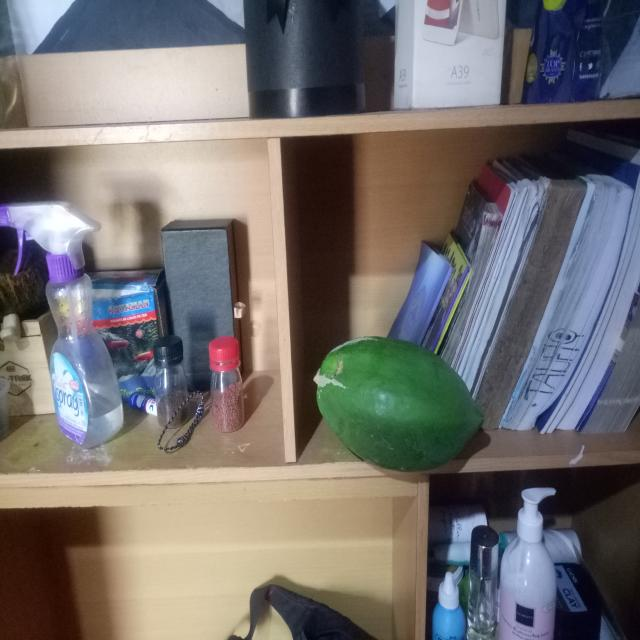Pepaya unrippen: (308, 332, 490, 474)
